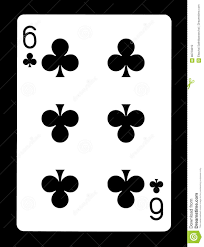six of hearts: (17, 13, 169, 232)
